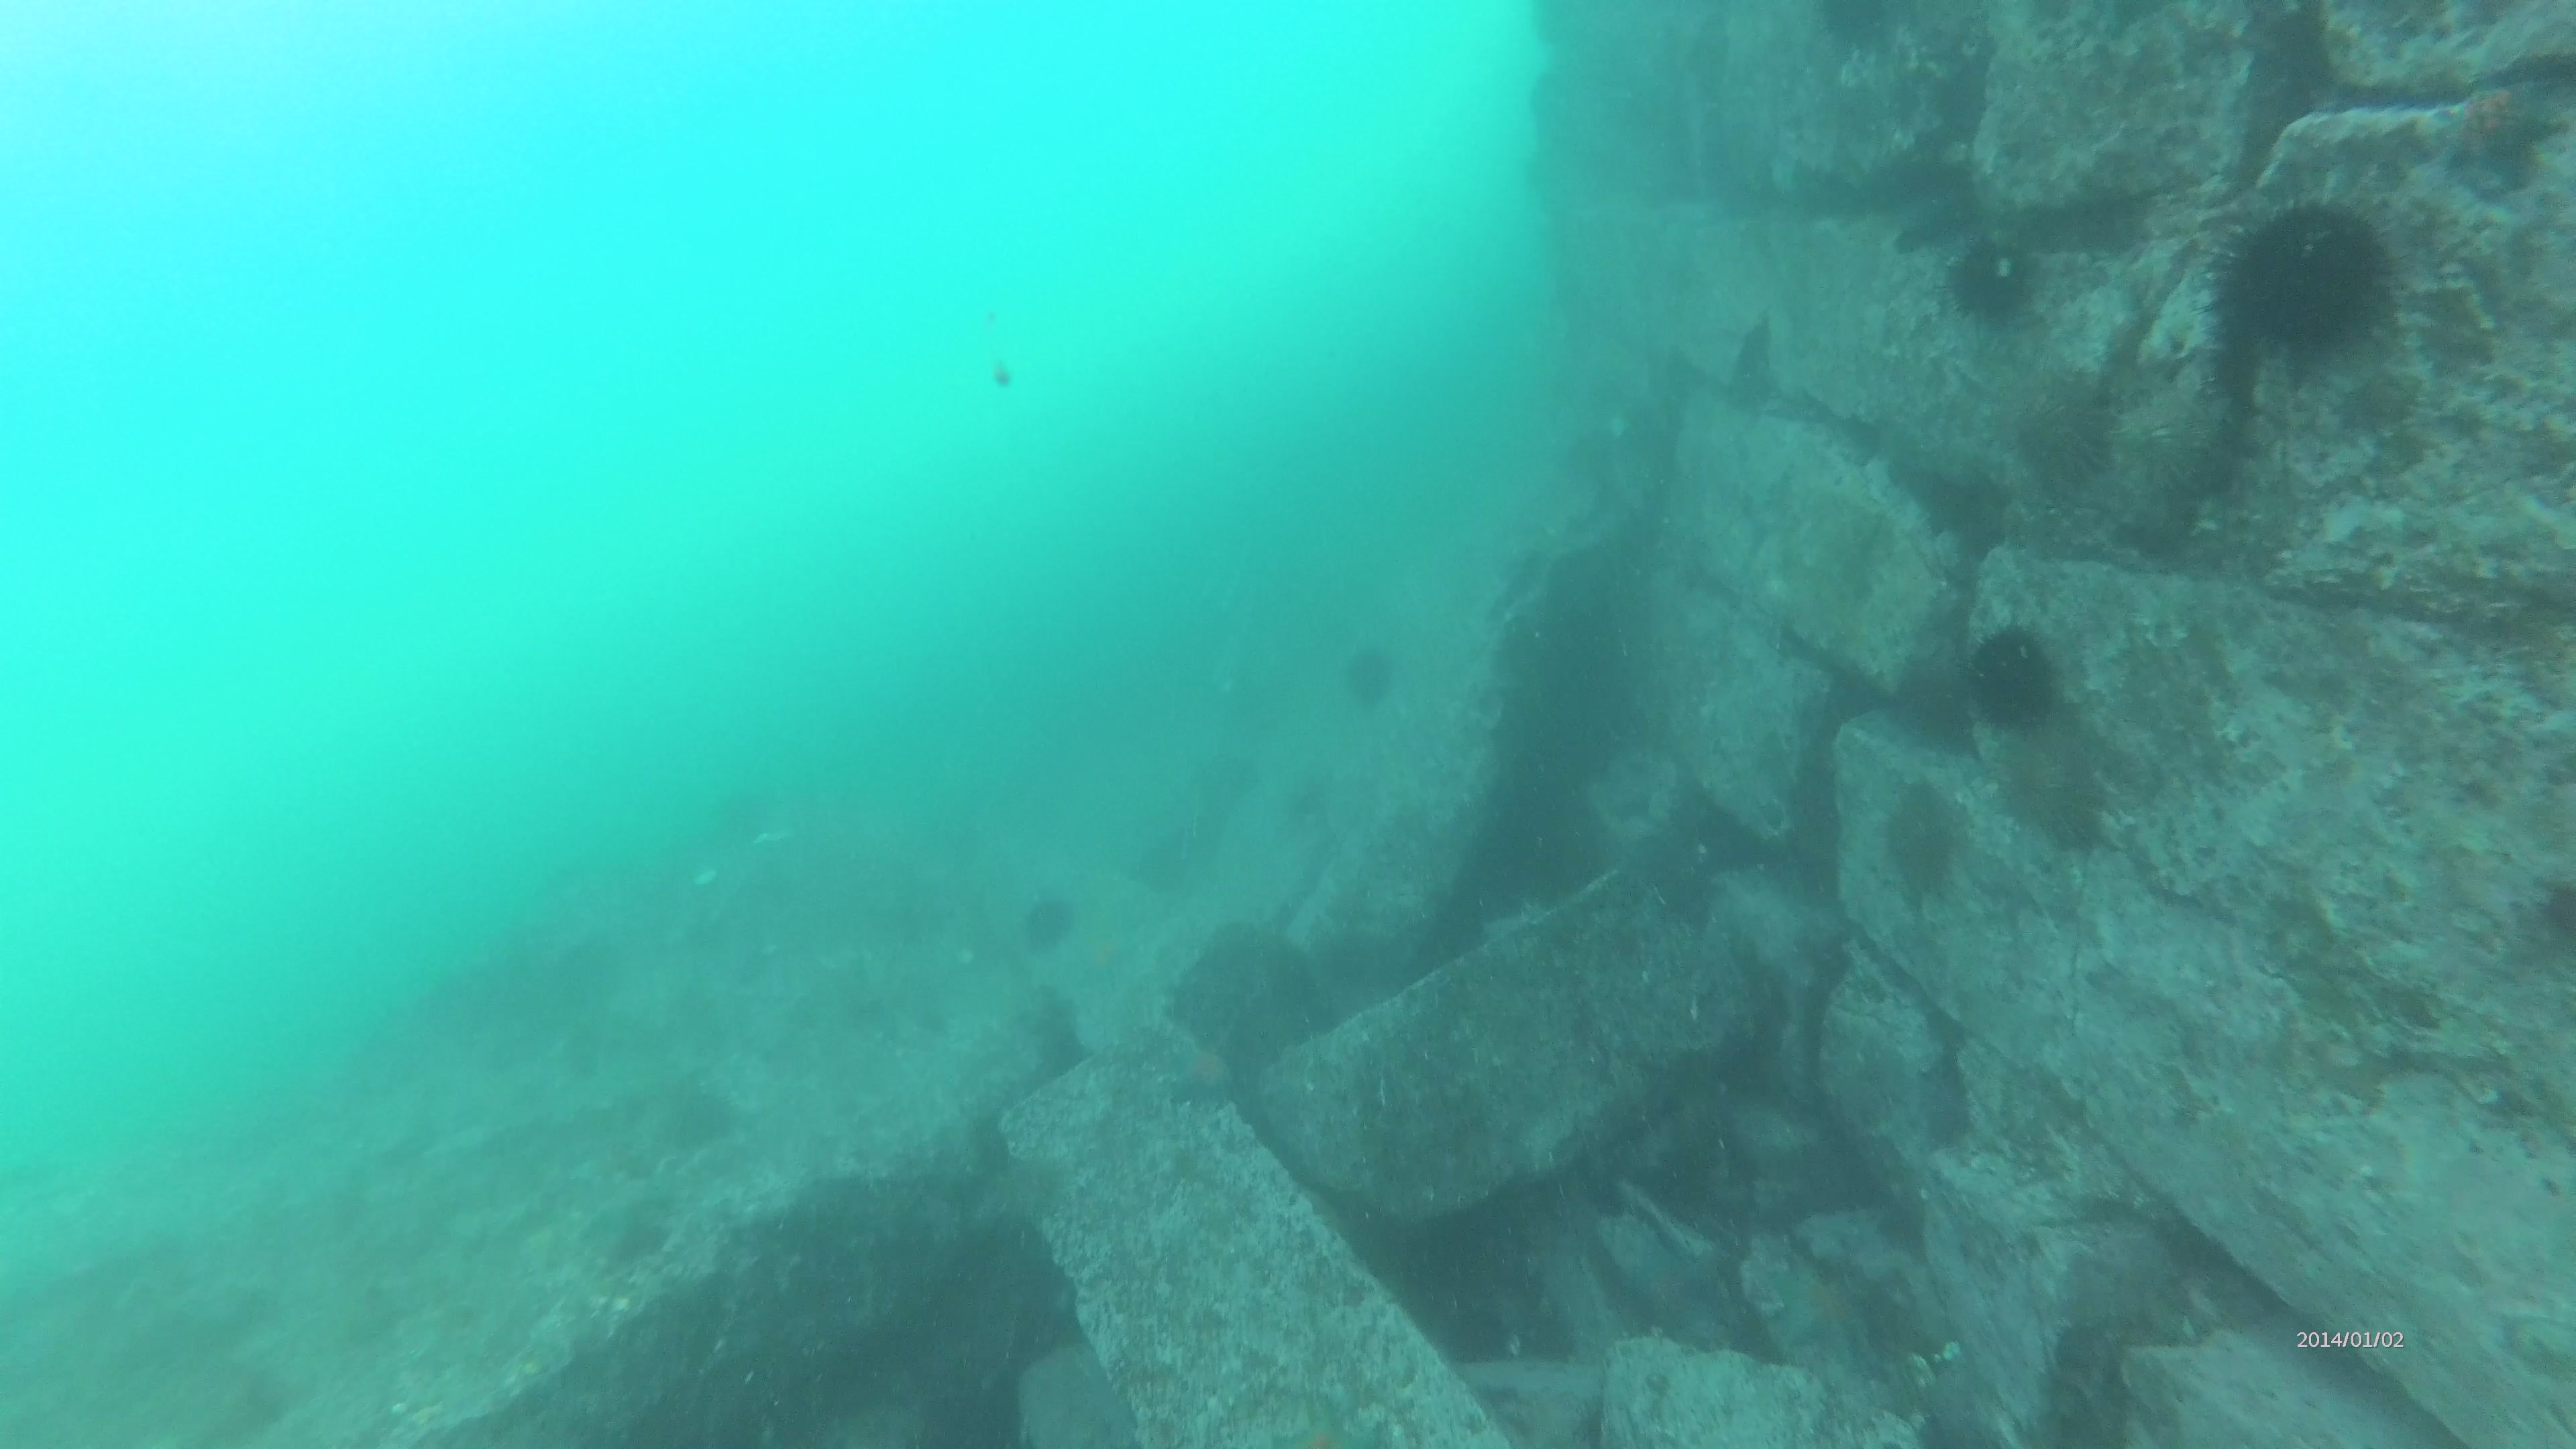echinus: (2212, 216, 2381, 357), (2104, 395, 2219, 506), (2010, 366, 2107, 488), (1951, 633, 2059, 738), (1936, 246, 2045, 329), (1332, 644, 1405, 702), (1815, 0, 1895, 48), (1017, 906, 1067, 947)
starfish: (2427, 81, 2558, 184)
